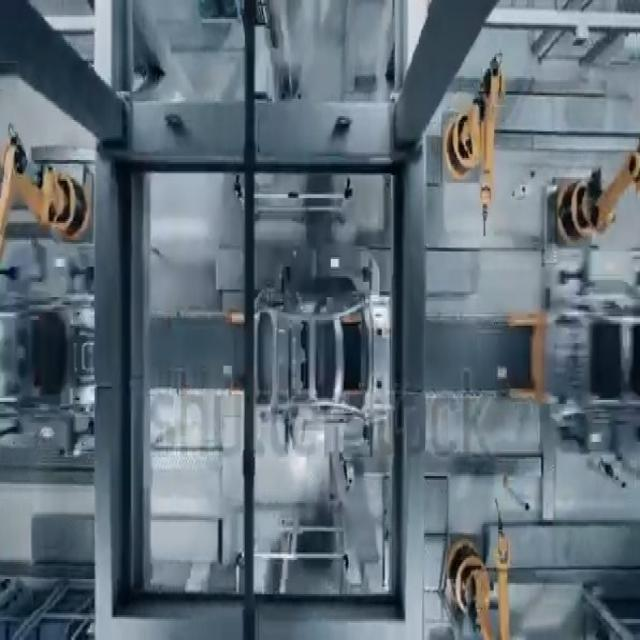auto: (240, 268, 410, 436), (524, 272, 640, 450)
robot: (537, 128, 640, 306), (429, 65, 512, 232), (438, 512, 523, 640)
